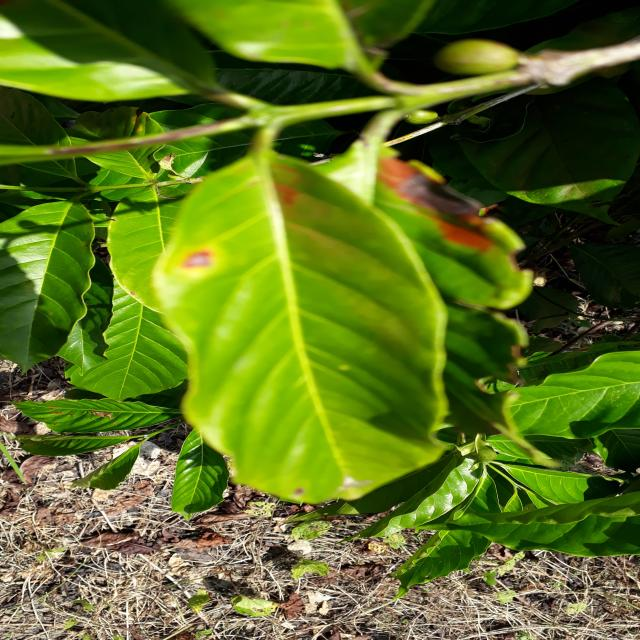Plaga-AranaRoja: (149, 128, 453, 507)
